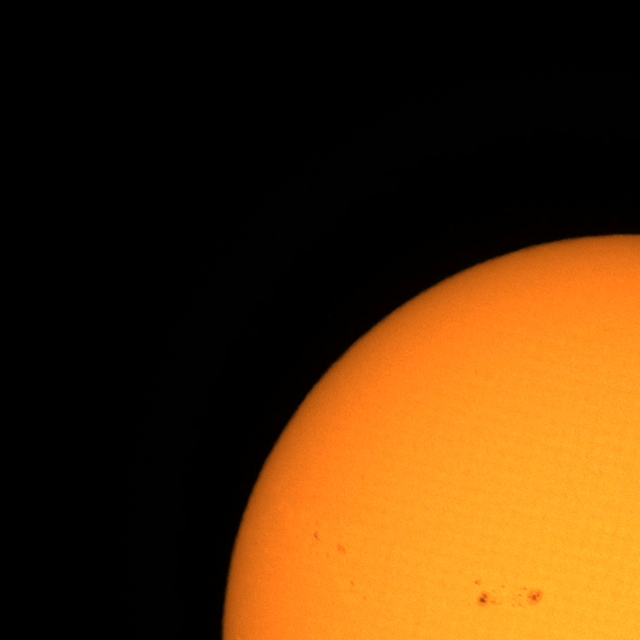sunspot: (511, 586, 543, 606), (476, 585, 504, 606), (335, 542, 348, 556), (313, 531, 320, 541), (349, 580, 355, 588)
